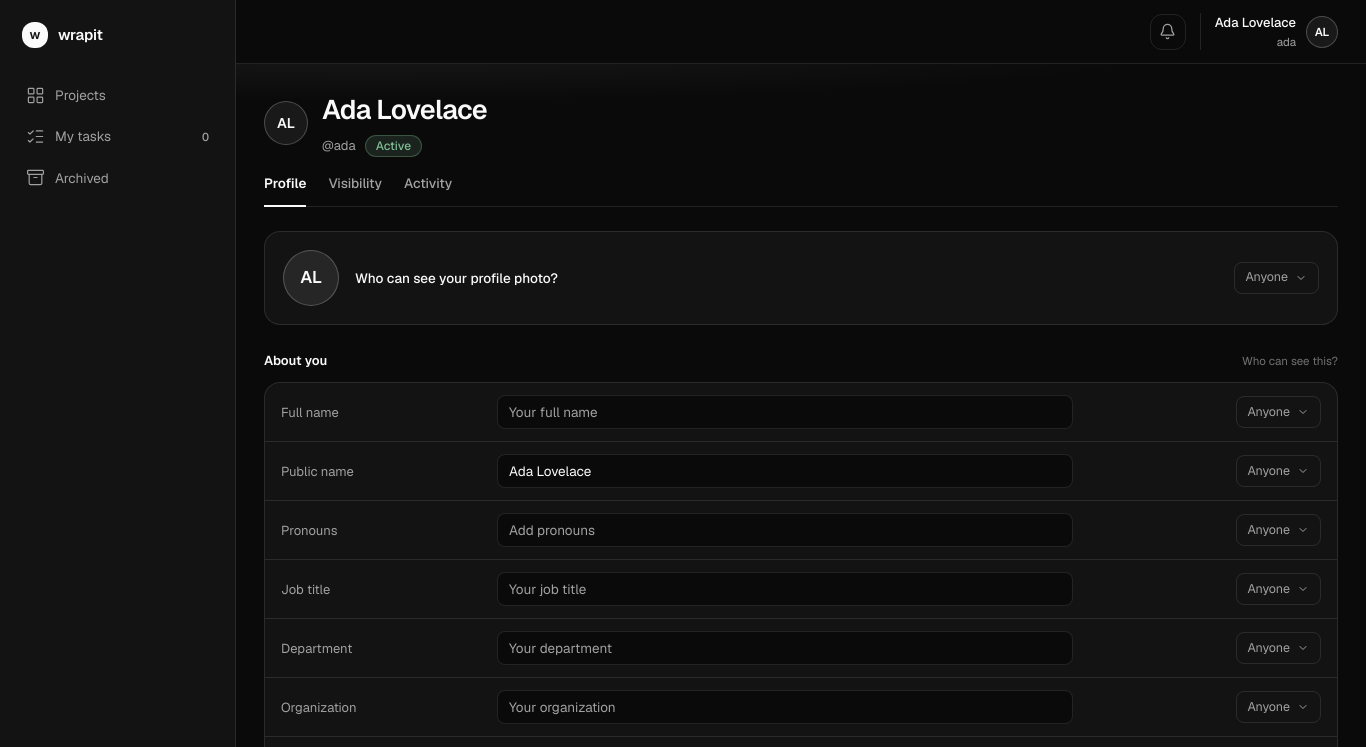
Test case: live display name in the shell › updates initials in the topbar, mobile header, account header, and profile card at once
This screenshot has width=1366, height=747.
Clear the field labelled "Public name": (785, 471) [497,454,1073,488]
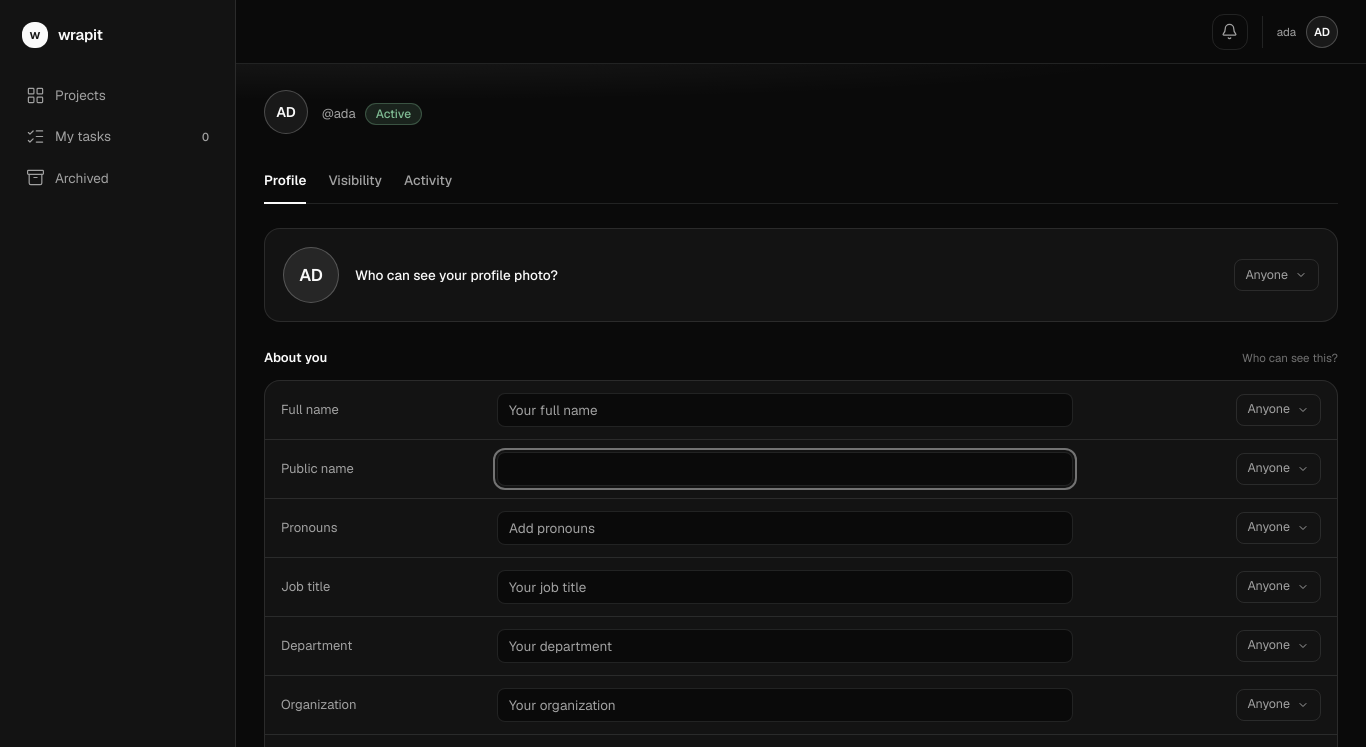
In the field labelled "Public name": (785, 469) [497,452,1073,486], type "Grace Hopper"
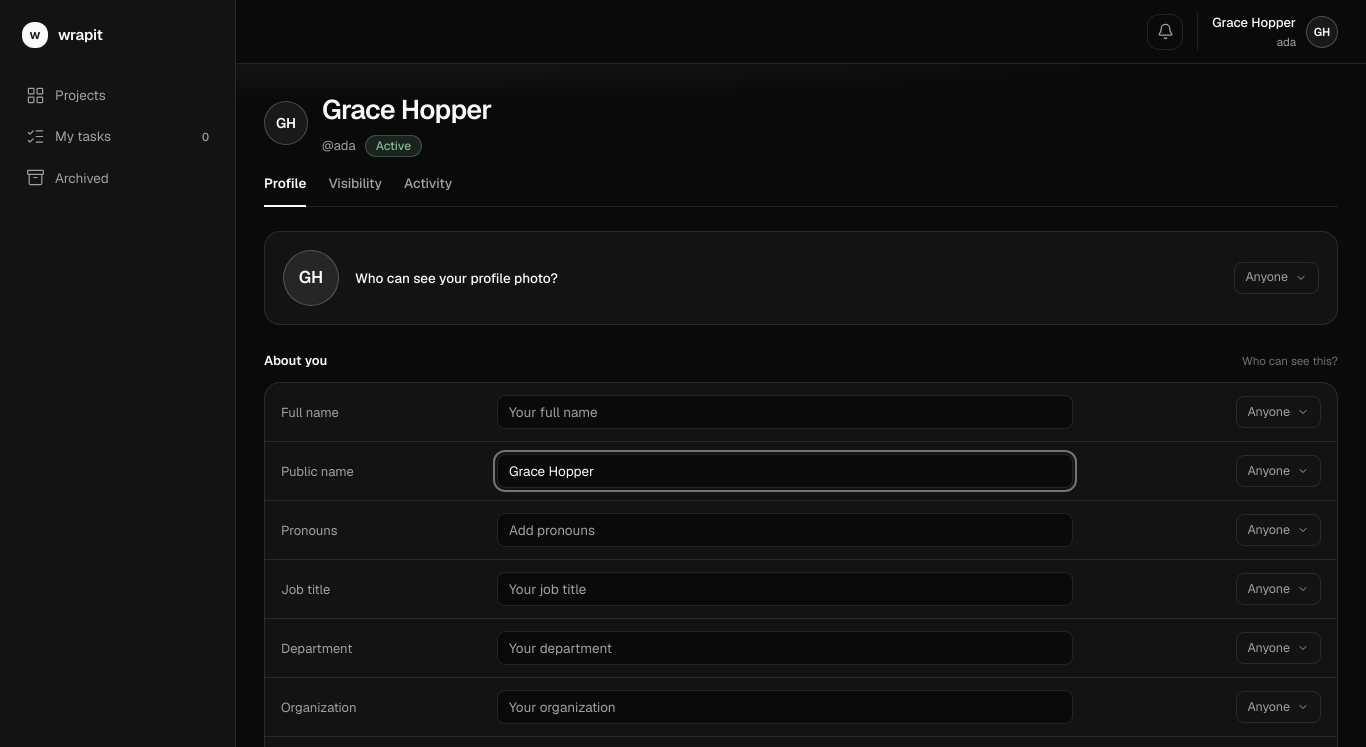
Press Tab
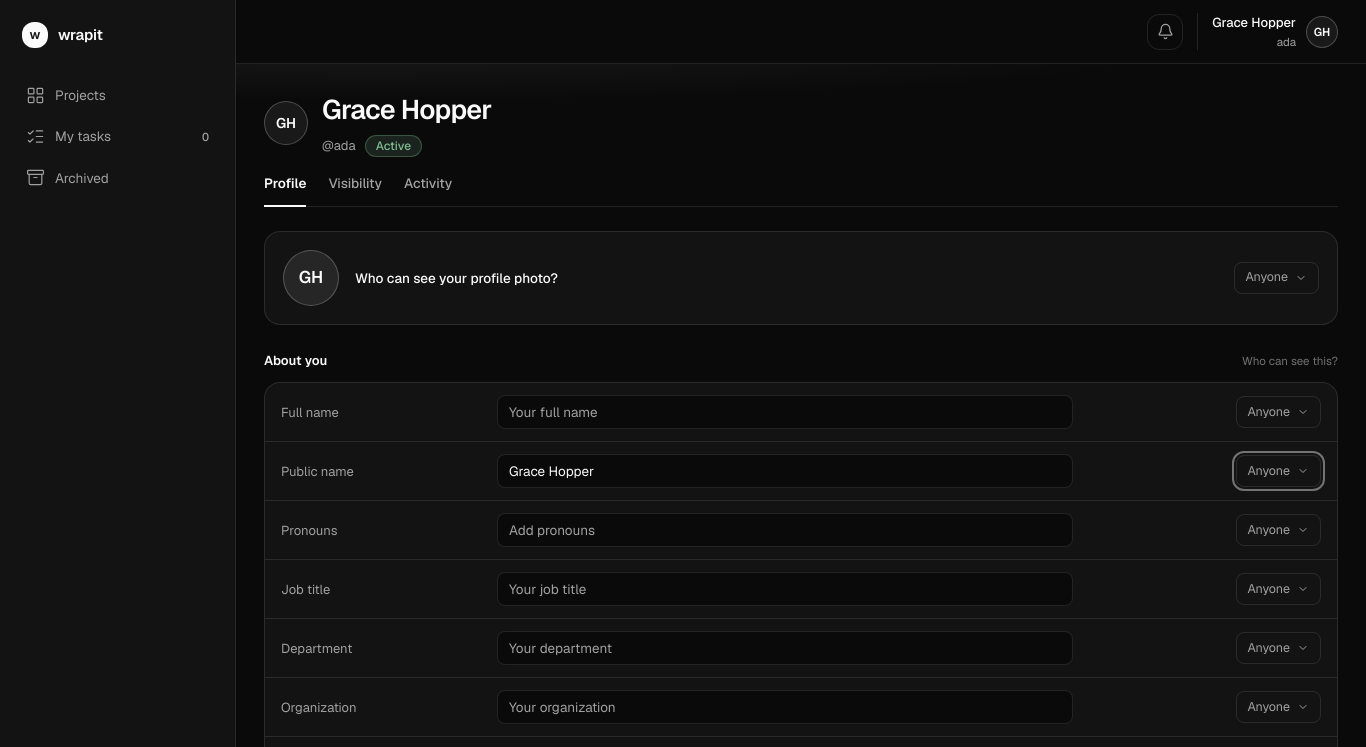
Now the button with aria-label "Account" shows "GH"
Now the header "Grace Hopper" is shown, box [236,64,1365,207]
Now the text "GH" in the row of "Active" is shown, box [276,114,296,132]
Click the button with aria-label "Account": (1268, 32) [1197,13,1338,50]
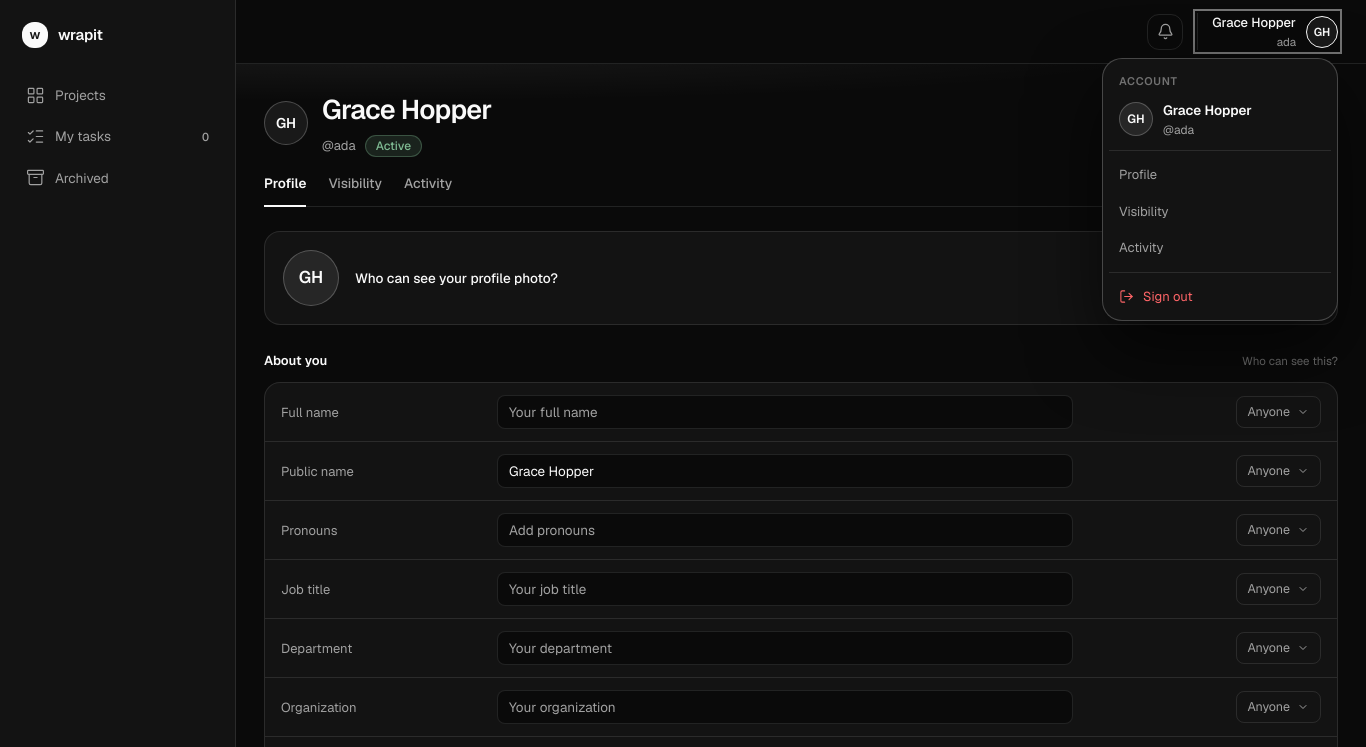
Now the number of dialogs "Account" is 2
Now the text "Grace Hopper" is shown, box [1163,100,1252,120]
Now the text "GH" is shown, box [1119,102,1153,136]
